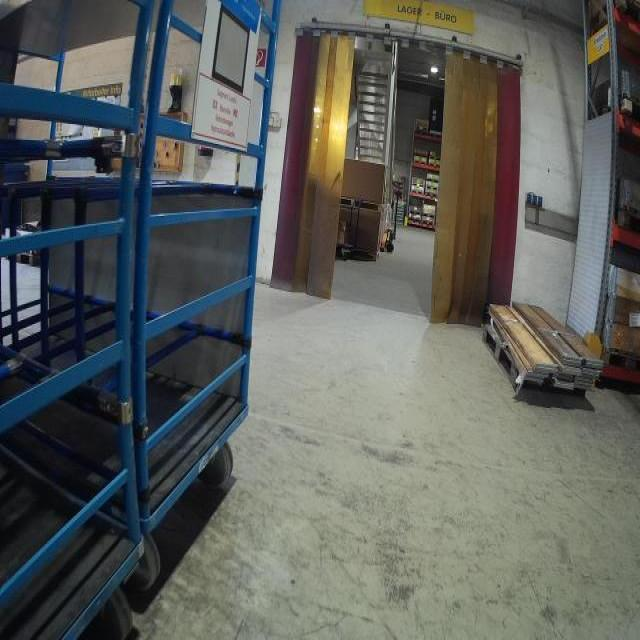pallet: (479, 326, 587, 401), (340, 194, 387, 213), (606, 348, 637, 369), (422, 210, 437, 219), (415, 125, 430, 133), (409, 215, 420, 225), (427, 175, 439, 184), (412, 181, 425, 189), (426, 191, 439, 199), (422, 219, 435, 227), (414, 159, 427, 166), (429, 162, 442, 169), (410, 208, 421, 216), (427, 184, 439, 191), (412, 189, 424, 195)
pallet_truck: (380, 175, 410, 256)
